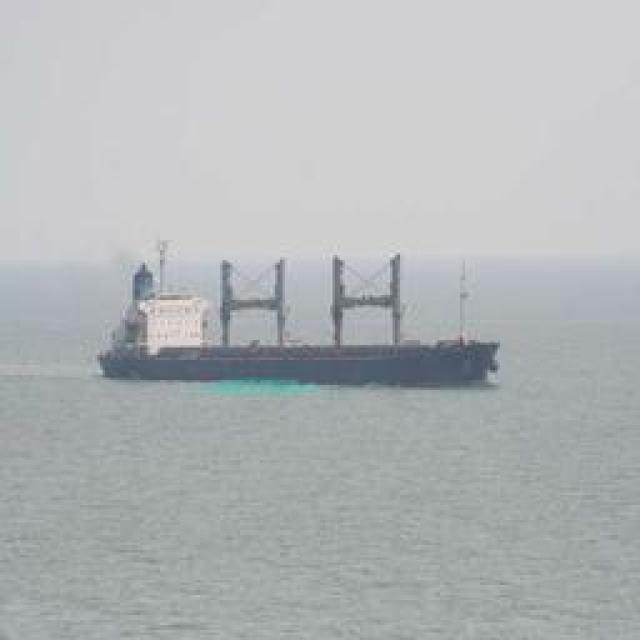CIV_Ship: (92, 252, 498, 388)
